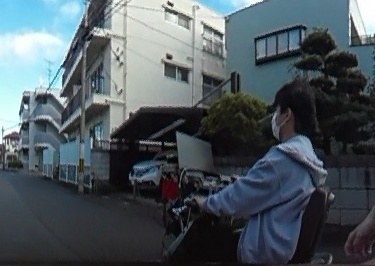person: (184, 80, 320, 266)
